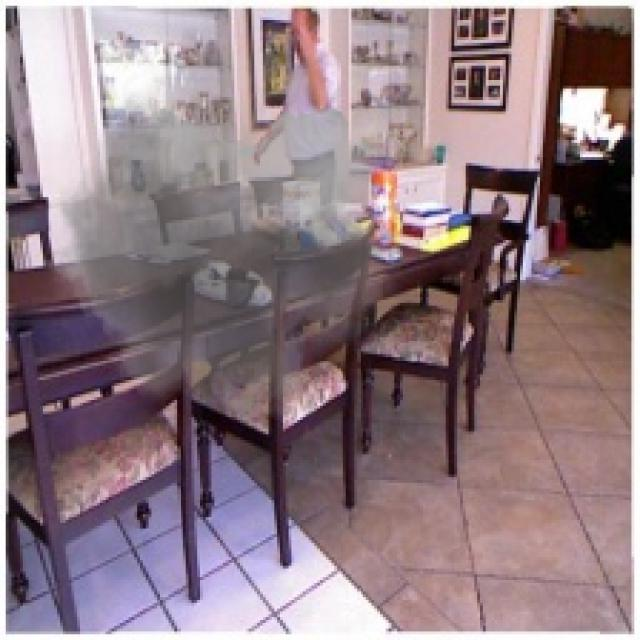smoke: (31, 23, 406, 440)
